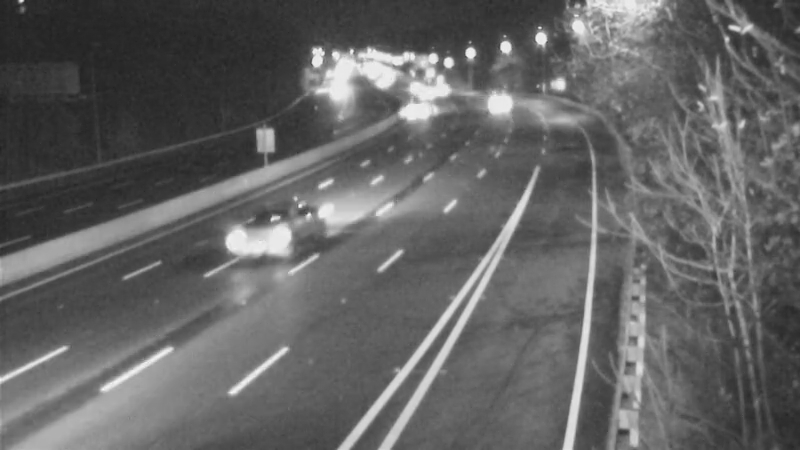vehicle: (211, 191, 291, 271), (385, 62, 435, 112), (419, 66, 469, 116), (397, 67, 447, 117), (471, 83, 521, 133), (390, 86, 440, 136)
